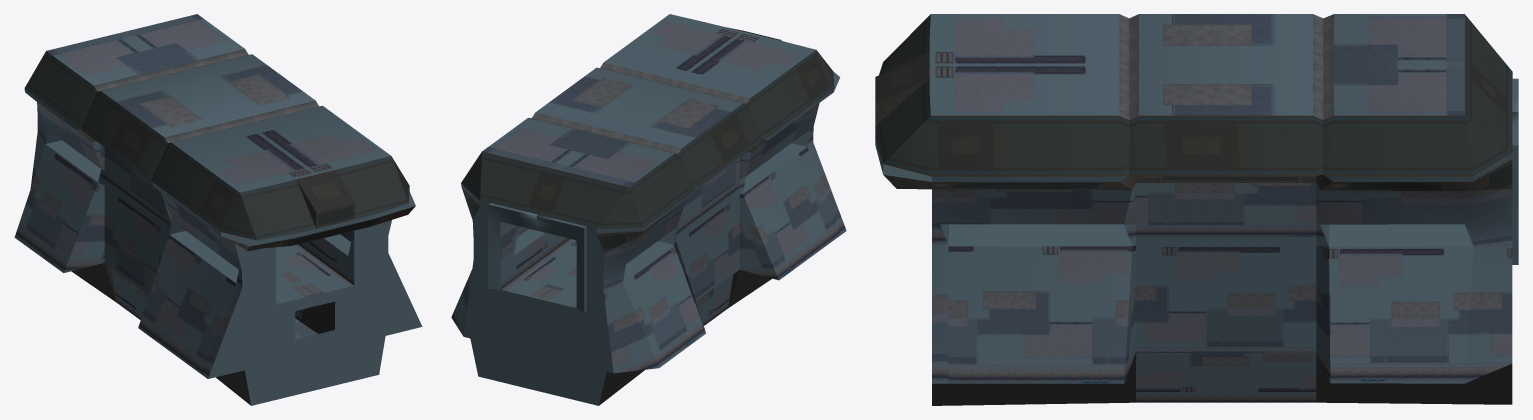
The model's file is mdlCorridor.fbx.
3 views of the same model, side by side, from view 1: azimuth 30°, elevation 25°; view 2: azimuth 150°, elevation 25°; view 3: azimuth 270°, elevation 25° (orthographic). The views are drawn at different scales.
Parts seen in each view (by area): view 1: Corridor.001; view 2: Corridor.001; view 3: Corridor.001.
Boxes of the visible parts, x1,y1,x2,y2 form: Corridor.001: [14, 14, 422, 405]; Corridor.001: [451, 14, 846, 405]; Corridor.001: [875, 14, 1518, 405].
Size of the model in its own units: 114 by 110 by 215.
1 material, 1 textured.
